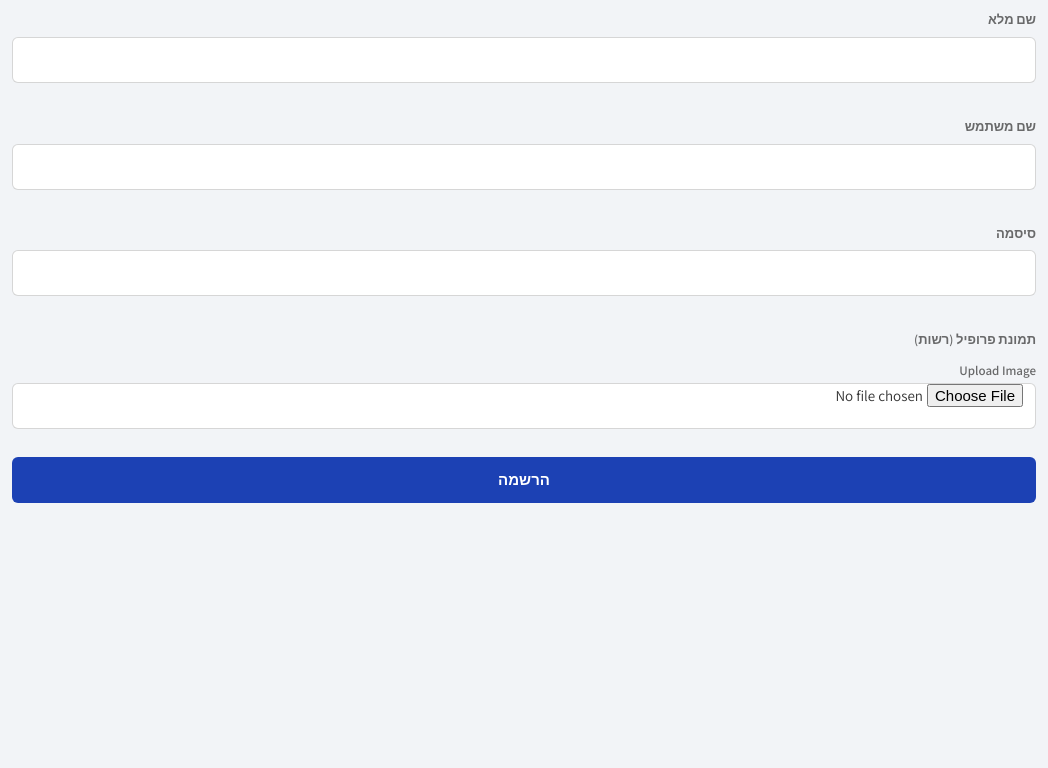
Test: the client-side guards › no password — names the missing field and sends no request
Type "Test Shopper" into the field labelled "שם מלא" at [524, 60], box [12,37,1036,83]
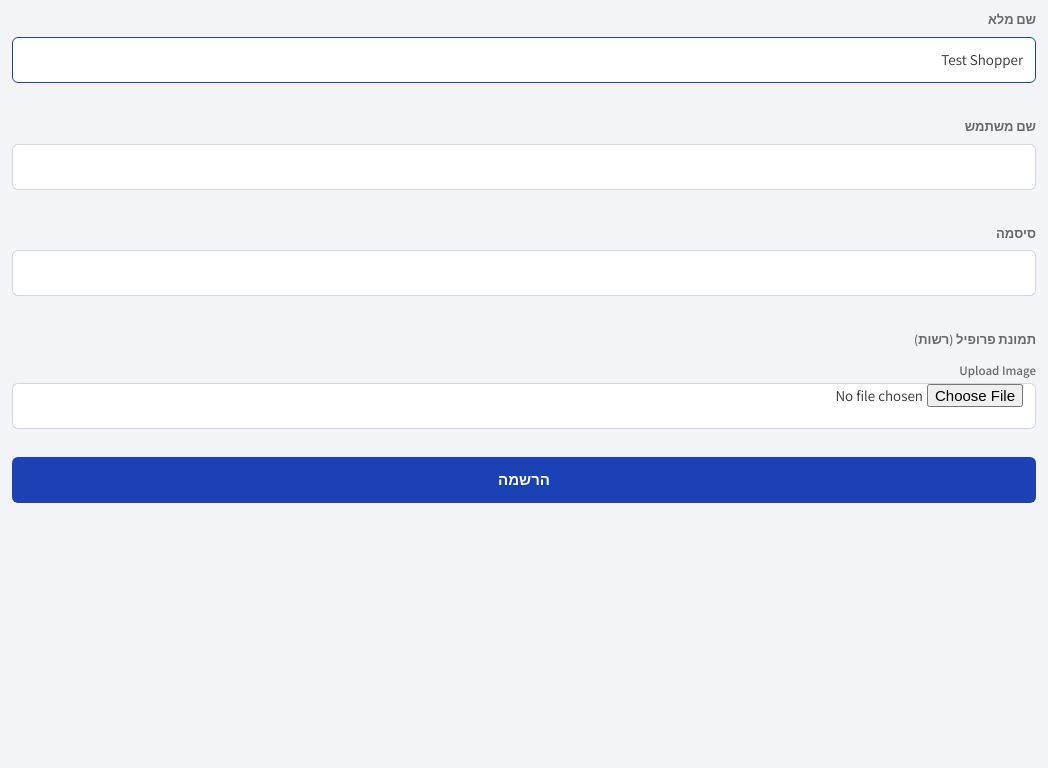
Type "shopper1" into the field labelled "שם משתמש" at [524, 167], box [12,144,1036,190]
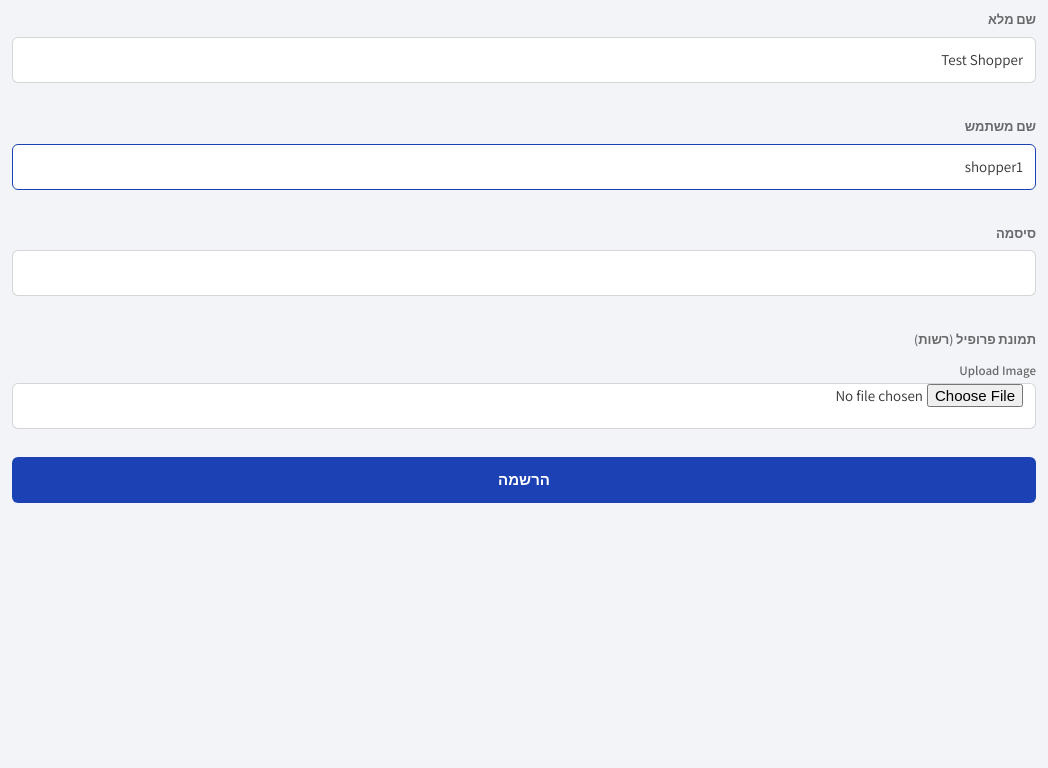
Click the button "הרשמה" at [524, 480], box [12,457,1036,503]
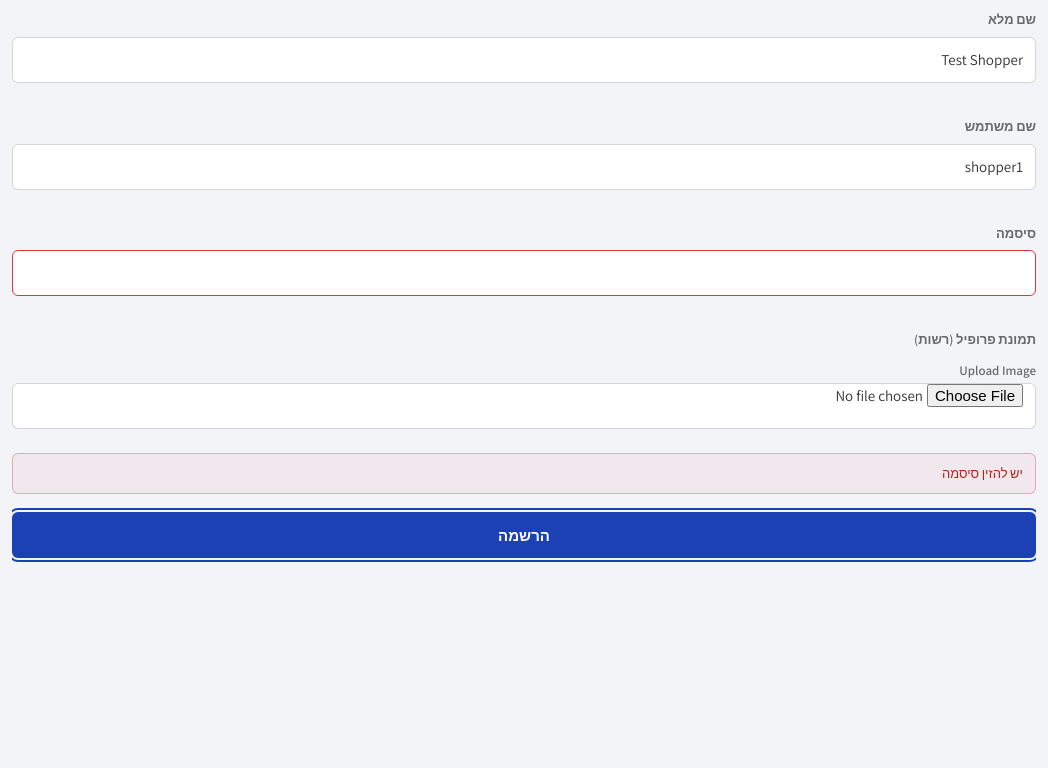
Check: the message reads "יש להזין סיסמה", box [942,465,1023,482]
